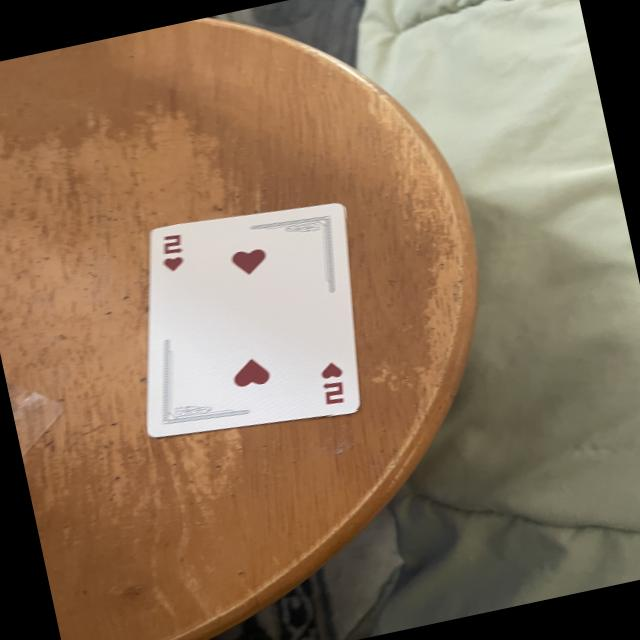2 of hearts: (148, 204, 360, 435)
